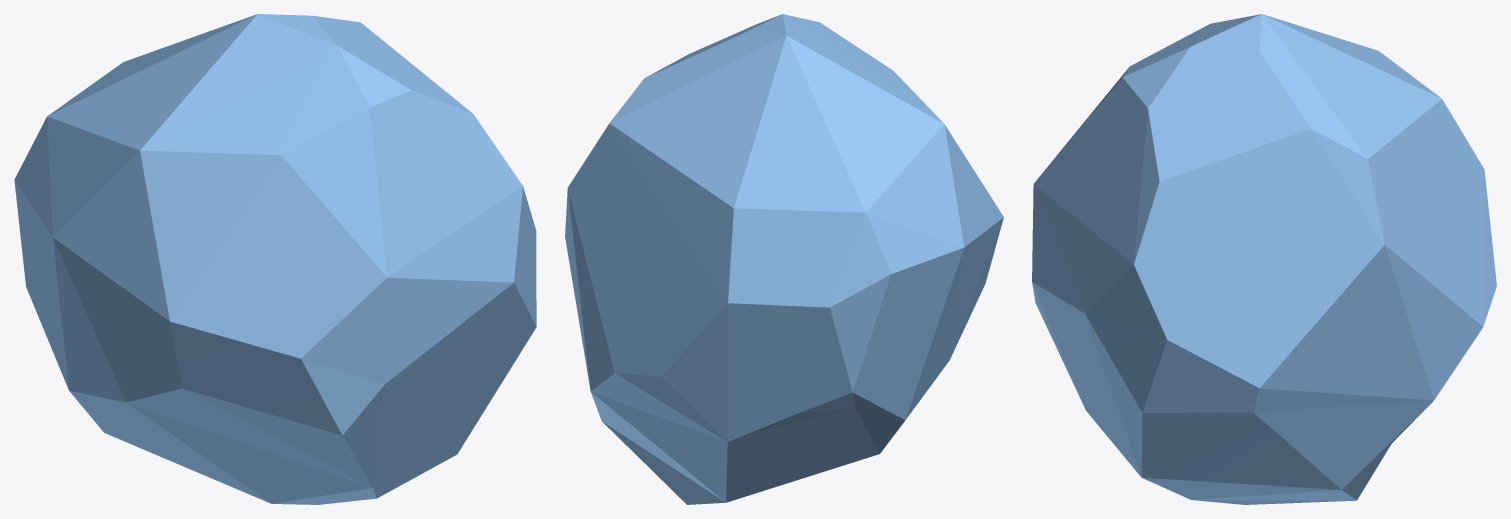
Rendered from Ice Ball.fbx.
3 renders of one model, left to right at view 1: azimuth 30°, elevation 25°; view 2: azimuth 150°, elevation 25°; view 3: azimuth 270°, elevation 25°, orthographic. The views are drawn at different scales.
Parts seen in each view (by area): view 1: SM_Env_Rock_Round_03; view 2: SM_Env_Rock_Round_03; view 3: SM_Env_Rock_Round_03.
Part boxes in pixels (box(x1,y1,x2,y2)): SM_Env_Rock_Round_03: box(14, 14, 536, 504); SM_Env_Rock_Round_03: box(565, 14, 1003, 504); SM_Env_Rock_Round_03: box(1032, 14, 1496, 504).
Bounding box in the file's own units: 82.49 × 88.57 × 79.86.
